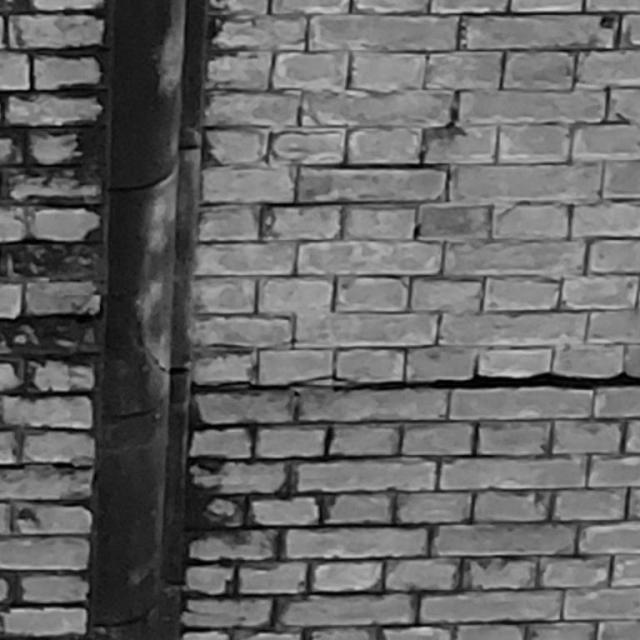crack: (331, 372, 640, 392)
